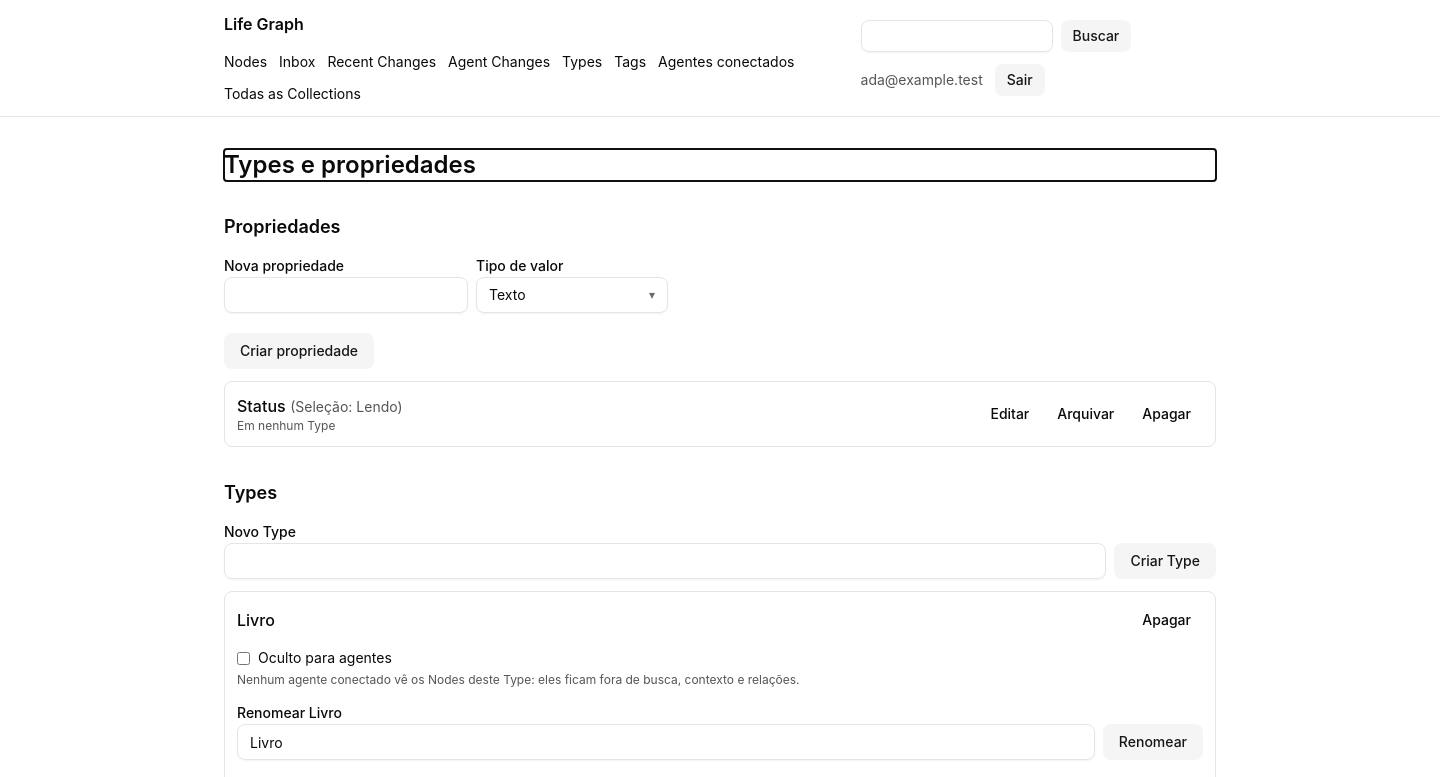
Scenario: types and properties › explains that a Type used only by deleted Nodes cannot go yet, and when it can
Click the button with aria-label "Apagar Type Livro" at (1167, 620), box left=1130, top=604, right=1203, bottom=636
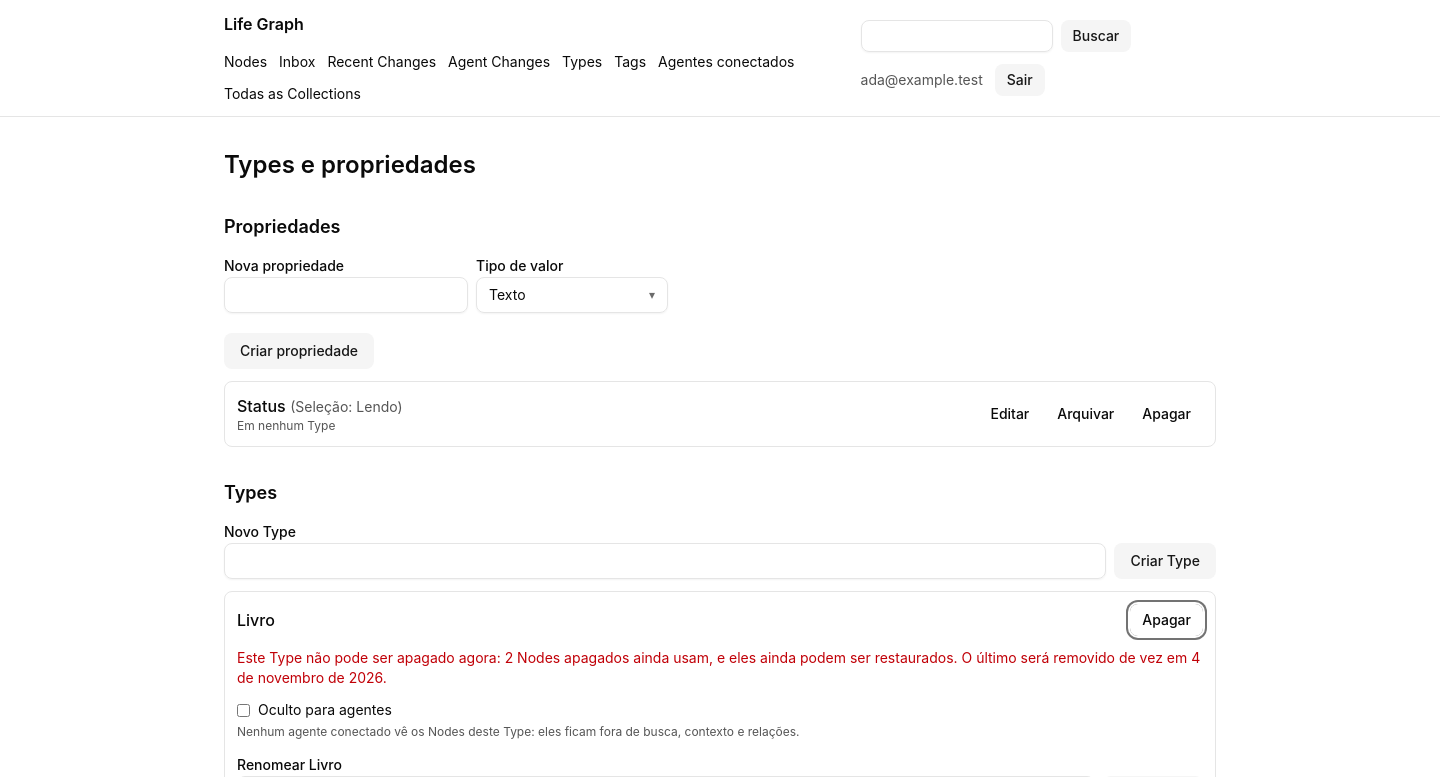
expect the message shows "2 Nodes apagados ainda usam": met, box left=237, top=649, right=1200, bottom=686
expect the message shows "4 de novembro de 2026": met, box left=237, top=649, right=1200, bottom=686
